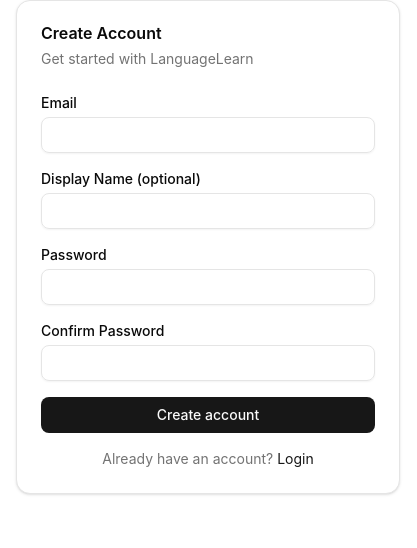
Test: RegisterForm › shows API error on duplicate email
Type "dup@example.com" into the field labelled "Email". click: (208, 135)
box: [41,117,375,153]
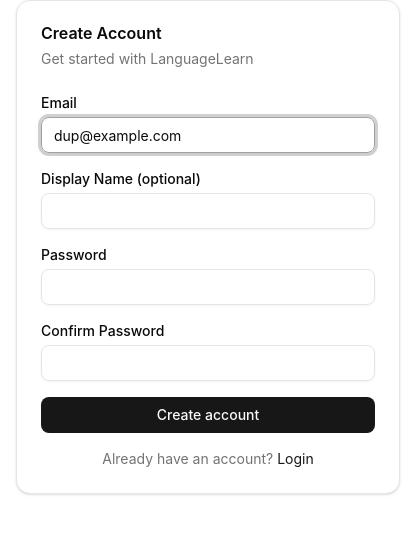
Type "password123" into the password field labelled "Password". click: (208, 287)
box: [41,269,375,305]
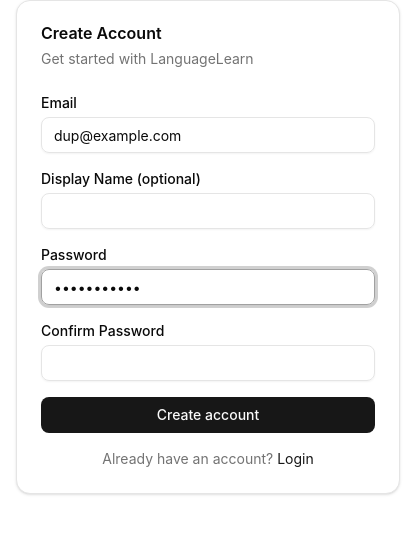
Type "password123" into the password field labelled "Confirm Password". click: (208, 363)
box: [41,345,375,381]
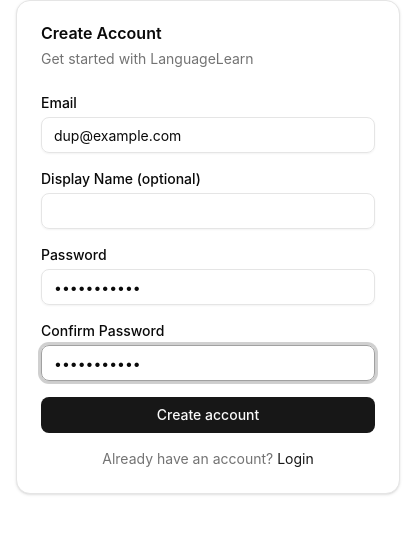
Click the button "Create account". click: (208, 415)
box: [41,397,375,433]
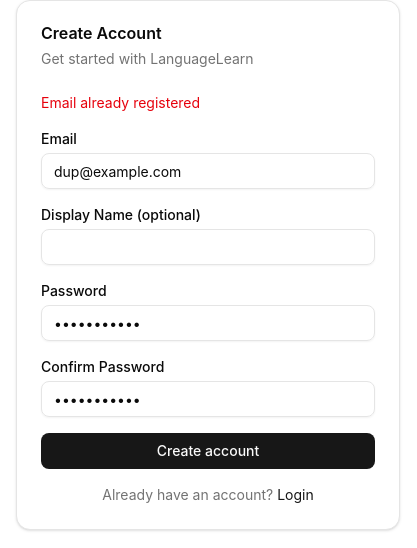
Now the message reads "Email already registered", box [41,94,200,111]
